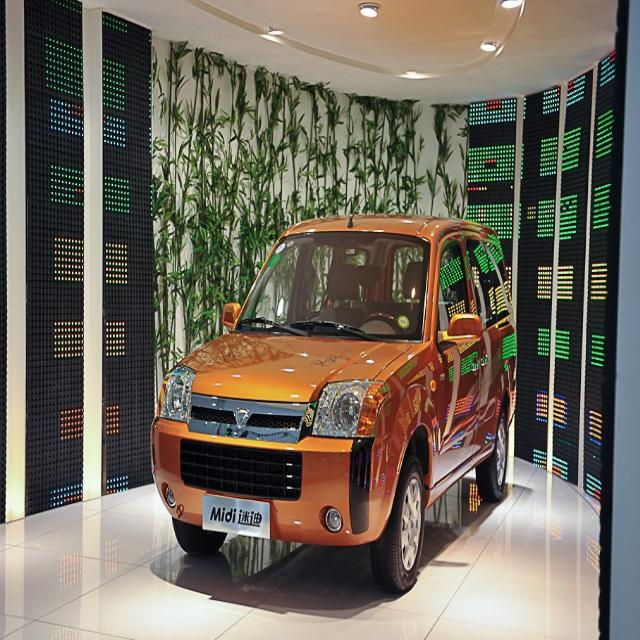front_bumper: (148, 413, 409, 548)
front_glass: (236, 231, 432, 346)
front_left_side_door: (429, 227, 480, 500)
front_left_side_light: (308, 376, 390, 442)
front_left_side_mirror: (440, 314, 481, 354)
front_right_side_light: (156, 360, 197, 427)
front_right_side_mirror: (221, 300, 240, 333)
wheel: (369, 455, 426, 587), (476, 399, 509, 506)
